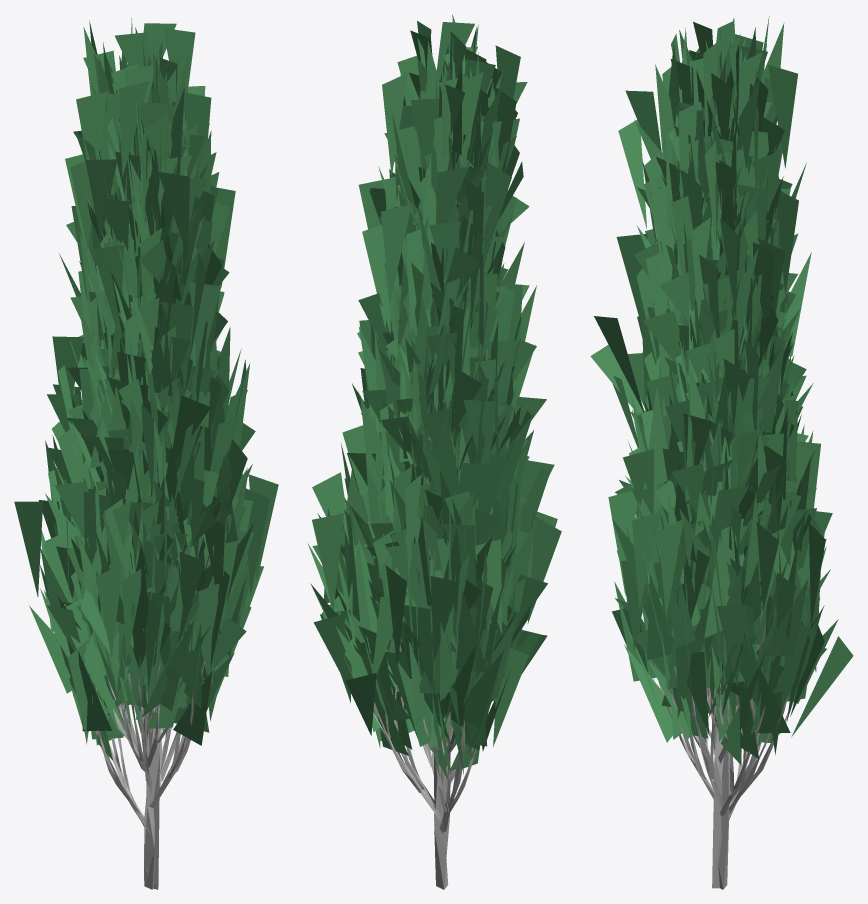
File: PopularTree.fbx
3 views of the same model, side by side, from view 1: azimuth 30°, elevation 25°; view 2: azimuth 150°, elevation 25°; view 3: azimuth 270°, elevation 25° (orthographic).
Parts seen in each view (by area): view 1: poplar2Leaf, poplar2Main; view 2: poplar2Leaf, poplar2Main; view 3: poplar2Leaf, poplar2Main.
Boxes of the visible parts, box(x1,y1,x2,y2) form: poplar2Leaf: box(14, 17, 278, 760); poplar2Main: box(95, 557, 216, 889); poplar2Leaf: box(307, 14, 561, 780); poplar2Main: box(373, 644, 490, 889); poplar2Leaf: box(590, 16, 853, 764); poplar2Main: box(653, 597, 792, 889).
Bounding box in the file's own units: 3.45 × 14.42 × 4.
